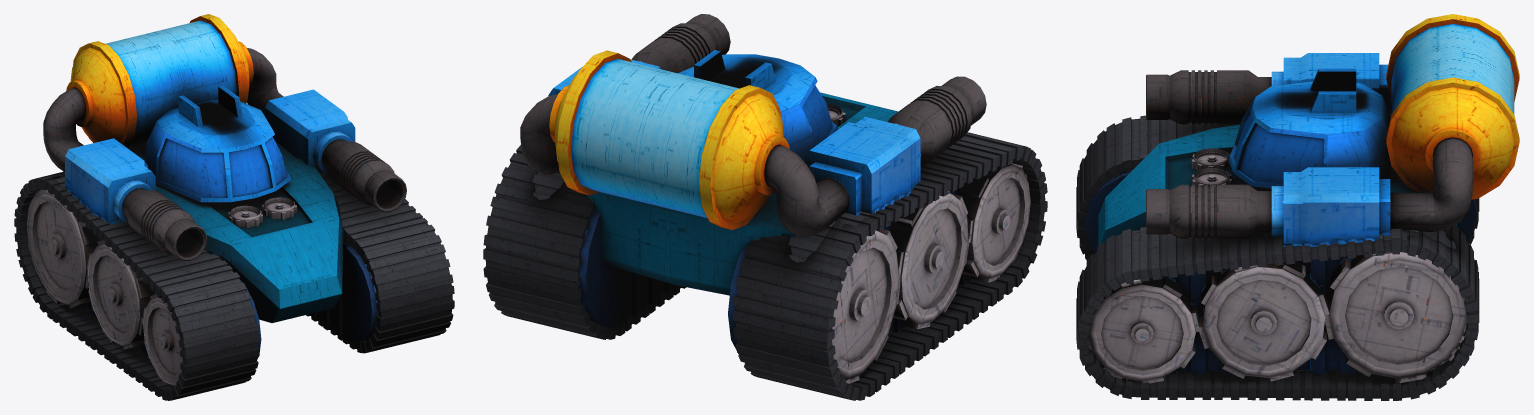
File: PlayerB17.obj
The picture shows the model from 3 angles, left to right: view 1: azimuth 30°, elevation 25°; view 2: azimuth 150°, elevation 25°; view 3: azimuth 270°, elevation 25°; orthographic projection. The views are drawn at different scales.
Parts seen in each view (by area): view 1: Object001, Box042, Object004, Object003, Object002; view 2: Object001, Box042, Object003, Object004, Object002; view 3: Object001, Box042, Object004, Object003, Object002.
Boxes of the visible parts, <box> form: Object001: <box>43,14,406,359</box>; Box042: <box>14,171,454,400</box>; Object004: <box>26,189,100,308</box>; Object003: <box>87,240,155,349</box>; Object002: <box>142,294,182,385</box>; Object001: <box>520,14,986,354</box>; Box042: <box>483,132,1047,400</box>; Object003: <box>889,191,969,328</box>; Object004: <box>832,229,900,383</box>; Object002: <box>958,163,1030,282</box>; Object001: <box>1085,14,1519,374</box>; Box042: <box>1076,115,1479,400</box>; Object004: <box>1325,252,1467,382</box>; Object003: <box>1198,261,1329,381</box>; Object002: <box>1087,276,1199,383</box>.
Size of the model in its own units: 121 by 101 by 147.
2 materials, 2 textured.
